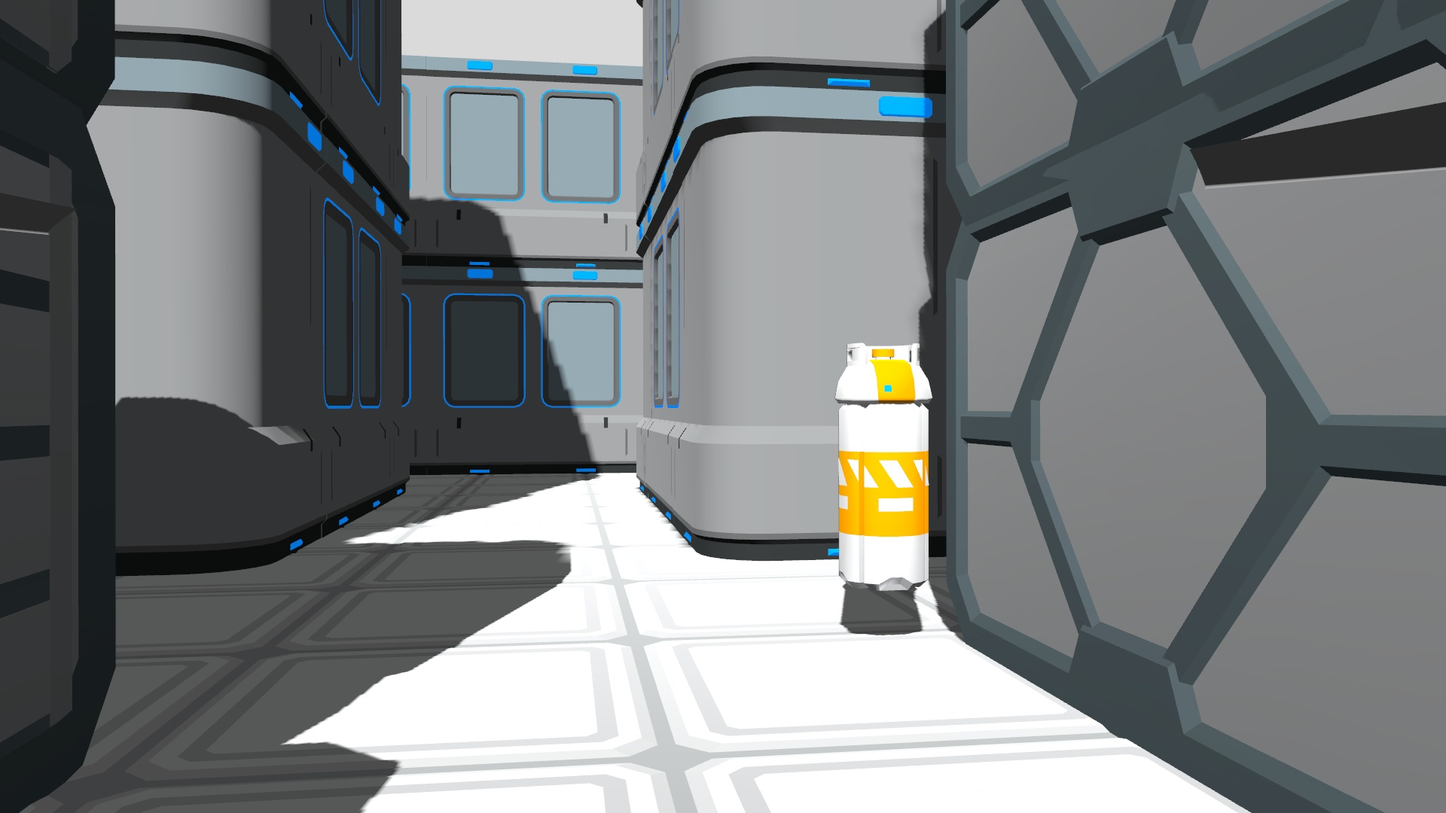yellow_barrel: (826, 335, 932, 600)
